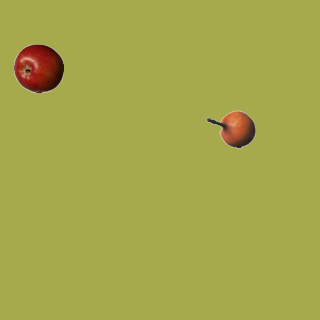Apple Braeburn: (13, 43, 63, 93)
Granadilla: (205, 104, 255, 154)
